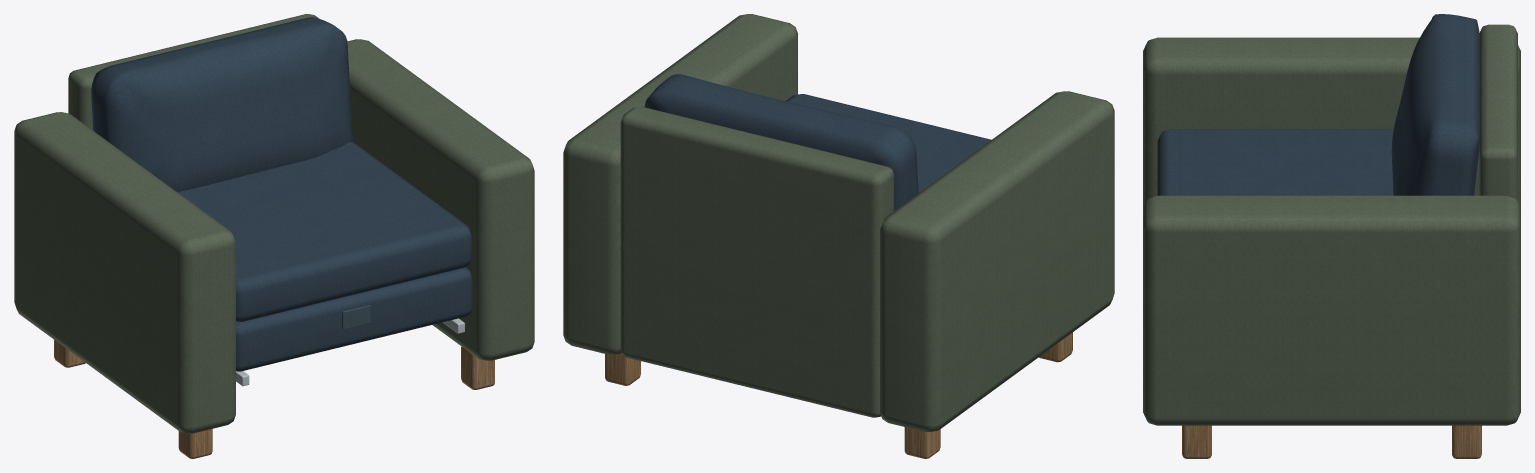
Rendered from chair-sleeper.glb.
The picture shows the model from 3 angles, left to right: view 1: azimuth 30°, elevation 25°; view 2: azimuth 150°, elevation 25°; view 3: azimuth 270°, elevation 25°; orthographic projection. The views are drawn at different scales.
Parts seen in each view (by area): view 1: catalog_surface_UVMap; view 2: catalog_surface_UVMap; view 3: catalog_surface_UVMap.
Part boxes in pixels (x1=…): catalog_surface_UVMap: x1=14, y1=14, x2=534, y2=458; catalog_surface_UVMap: x1=563, y1=14, x2=1114, y2=458; catalog_surface_UVMap: x1=1143, y1=14, x2=1520, y2=458.
Size of the model in its own units: 1.06 by 0.82 by 0.9.
5 materials, 4 textured.
